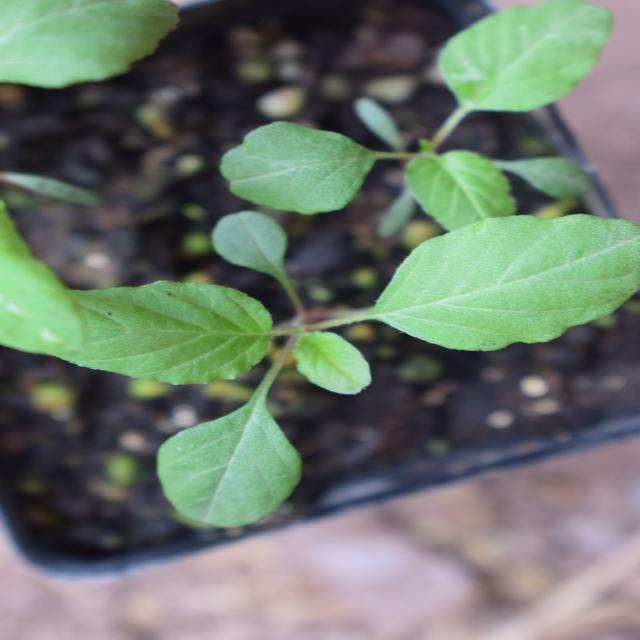pigweed: (122, 100, 432, 624), (442, 197, 633, 621)
